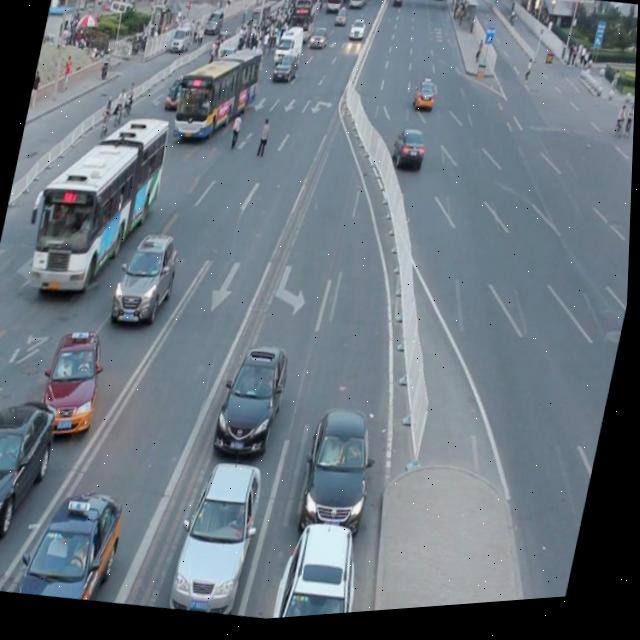car: (170, 453, 271, 623), (13, 476, 133, 610), (297, 401, 387, 545), (273, 515, 382, 623), (211, 338, 297, 467), (0, 384, 64, 551), (37, 321, 115, 444), (110, 225, 187, 334), (389, 129, 429, 179)
van: (27, 105, 175, 306), (171, 37, 266, 153)
